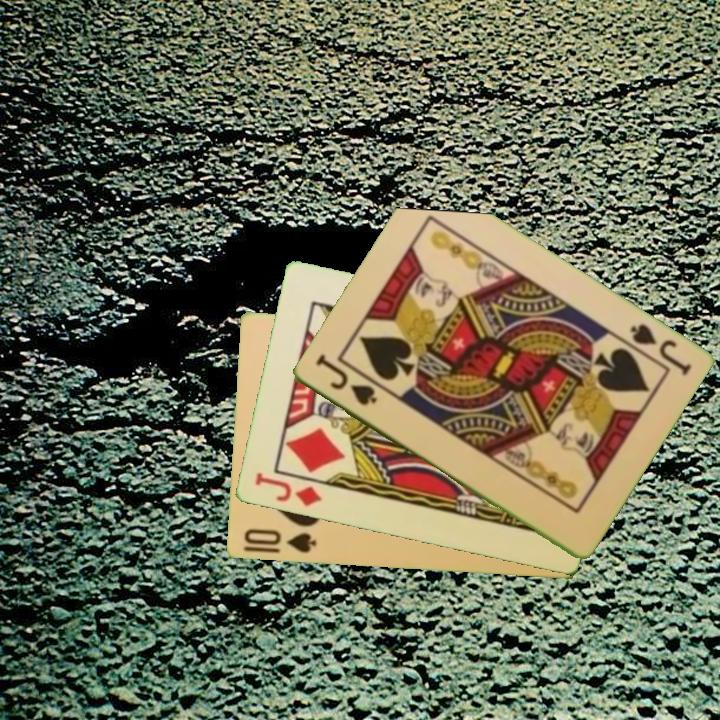10s: (240, 525, 319, 557)
Jd: (251, 469, 324, 510)
Js: (626, 320, 694, 379), (311, 352, 380, 409)
